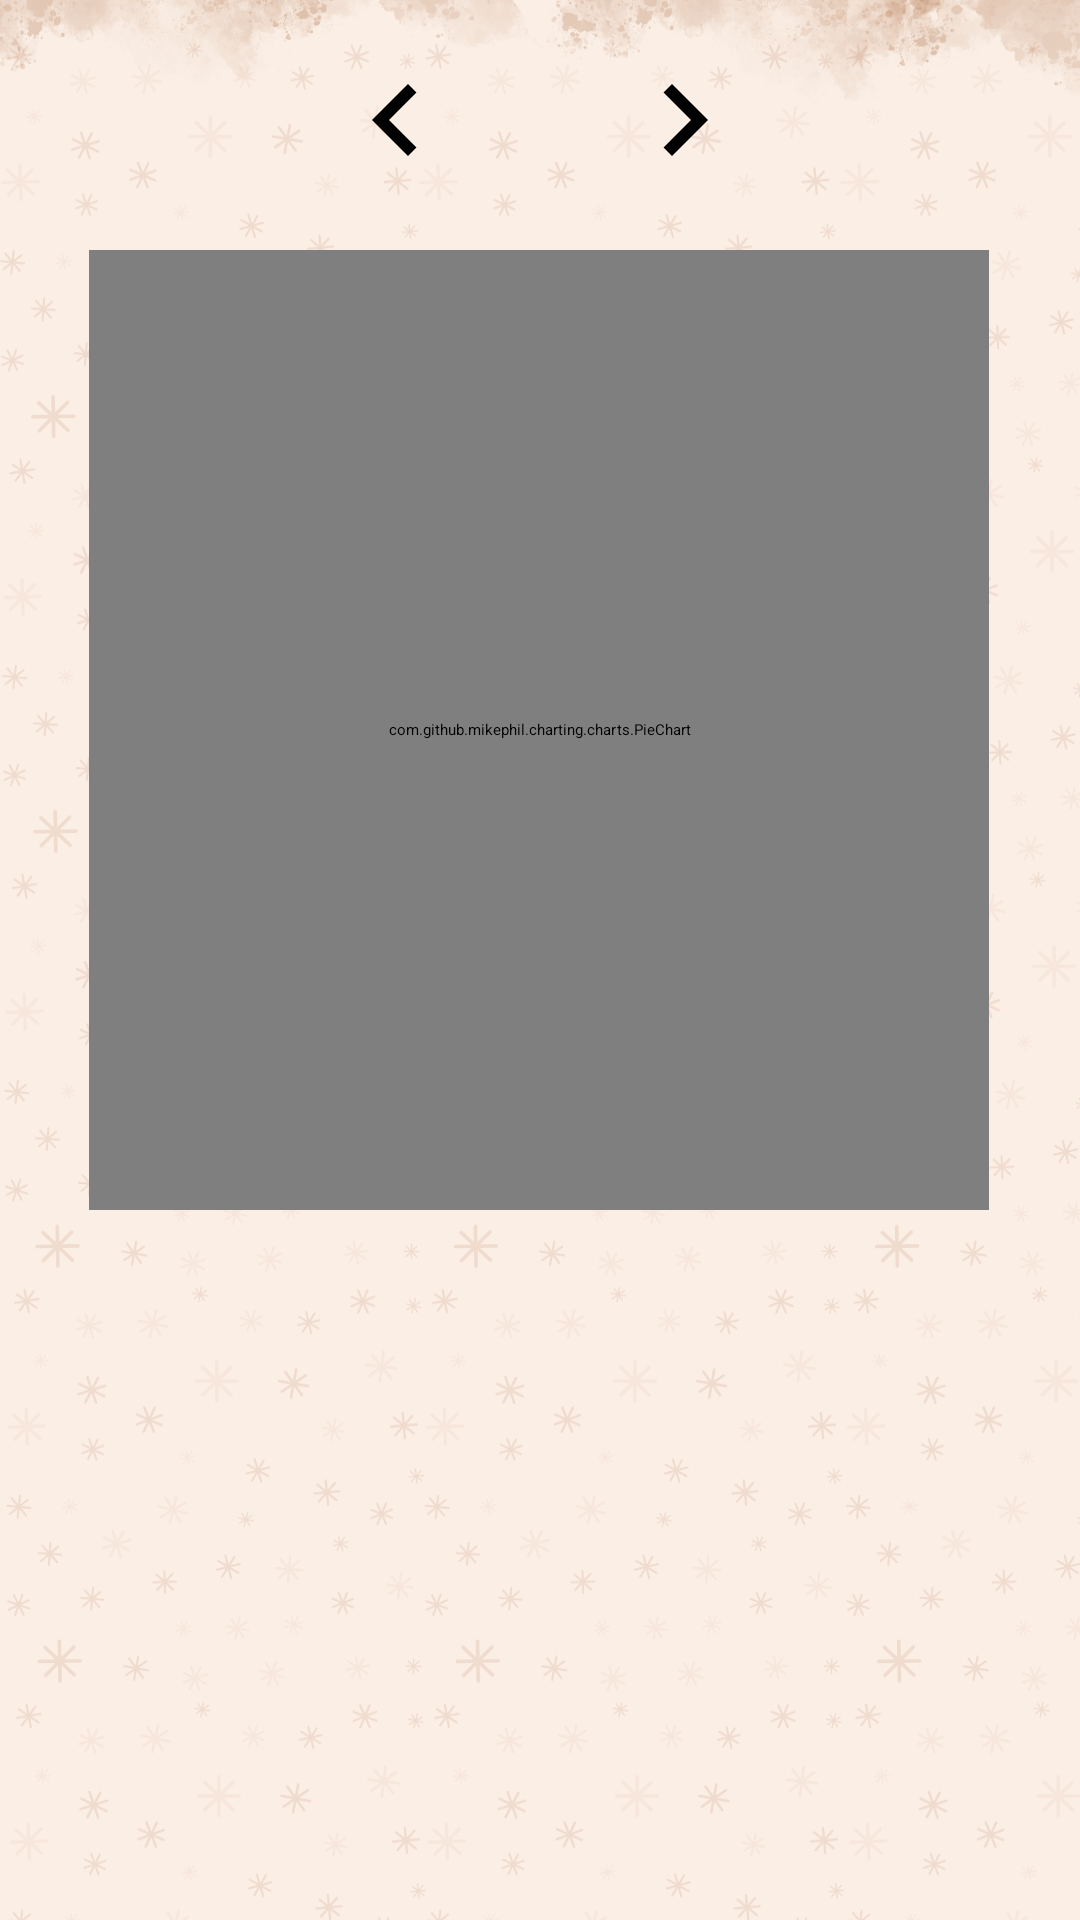

Where icons sit on this 1080×1920 app screen, as (left=x1, top=y1, right=x2, bottom=y2):
Previous month: (left=372, top=84, right=417, bottom=156)
